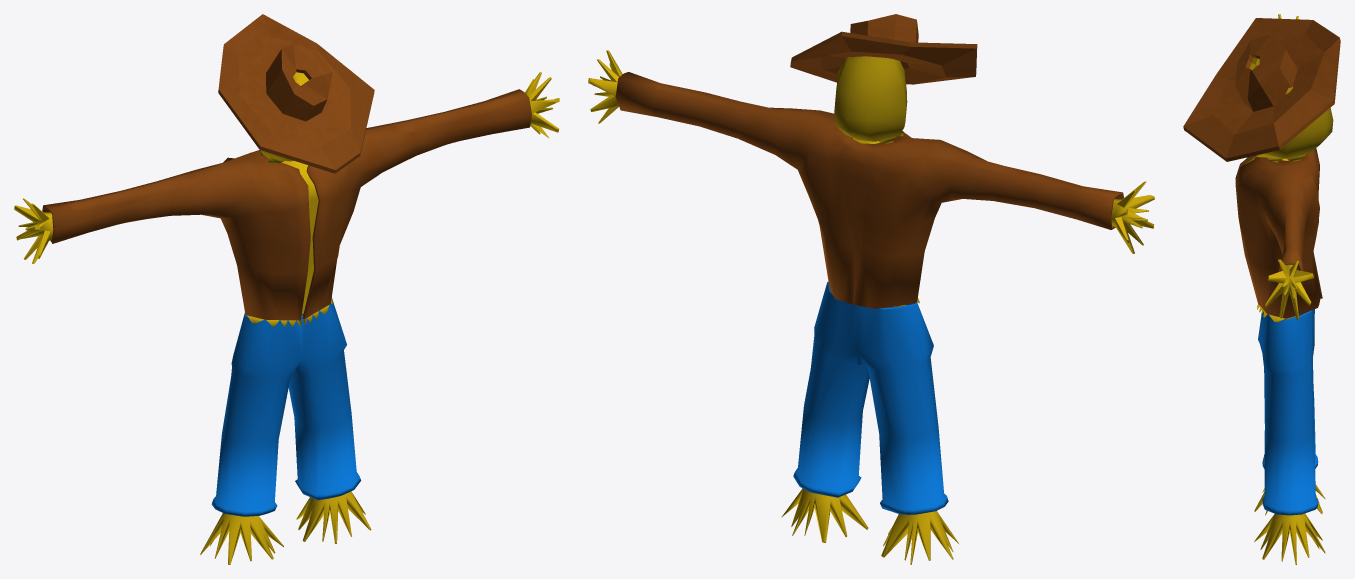
Rendered from Espantalho.fbx.
3 views of the same model, side by side, from view 1: azimuth 30°, elevation 25°; view 2: azimuth 150°, elevation 25°; view 3: azimuth 270°, elevation 25° (orthographic). The views are drawn at different scales.
Parts seen in each view (by area): view 1: Sphere.001; view 2: Sphere.001; view 3: Sphere.001.
Boxes of the visible parts, left/top/right/bottom form: Sphere.001: left=14, top=14, right=559, bottom=564; Sphere.001: left=588, top=14, right=1154, bottom=564; Sphere.001: left=1183, top=14, right=1340, bottom=564.
Size of the model in its own units: 957 by 875 by 254.
Materials: 1 (1 with a texture image).
